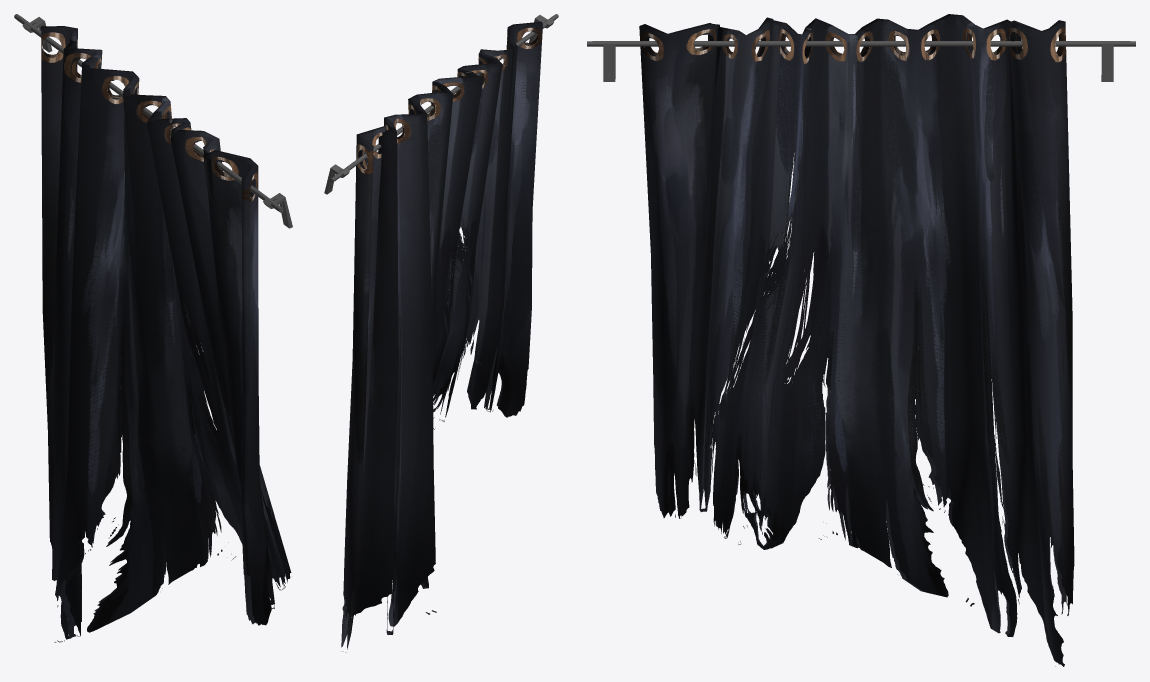
File: curtains with texture fixed.fbx
The picture shows the model from 3 angles, left to right: view 1: azimuth 30°, elevation 25°; view 2: azimuth 150°, elevation 25°; view 3: azimuth 270°, elevation 25°; orthographic projection. The views are drawn at different scales.
Parts seen in each view (by area): view 1: curtain; view 2: curtain; view 3: curtain.
Part boxes in pixels (bbox=[...]): curtain: bbox=[14, 14, 292, 642]; curtain: bbox=[324, 14, 558, 652]; curtain: bbox=[587, 14, 1135, 666].
Size of the model in its own units: 20.26 by 93.77 by 73.11.
2 materials, 1 textured.
